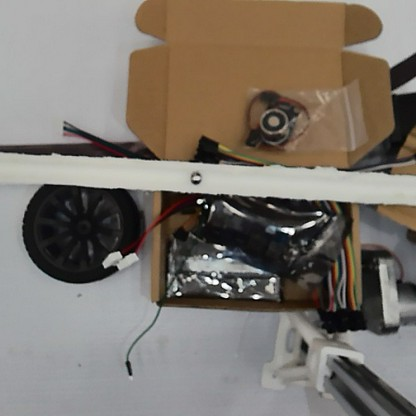ironball: (188, 169, 202, 184)
